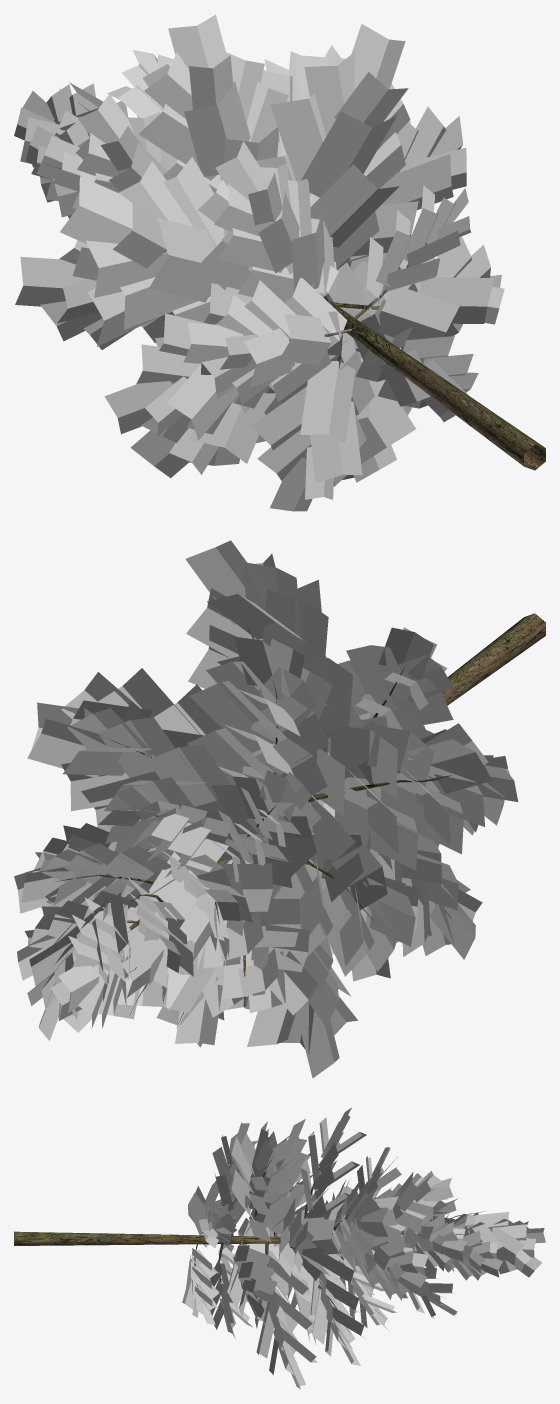
Rendered from wit_03.fbx.
3 views of the same model, one above another, from view 1: azimuth 30°, elevation 25°; view 2: azimuth 150°, elevation 25°; view 3: azimuth 270°, elevation 25° (orthographic). The views are drawn at different scales.
Visible parts, largest first — view 1: wit_01; view 2: wit_01; view 3: wit_01.
Part boxes in pixels (box(x1,y1,x2,y2)): wit_01: box(14, 14, 545, 511); wit_01: box(14, 540, 545, 1078); wit_01: box(14, 1107, 545, 1389).
Bounding box in the file's own units: 923 × 994 × 1831.
